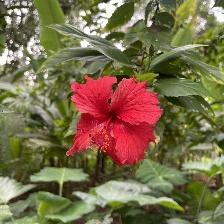hibiscus: (68, 75, 164, 169)
